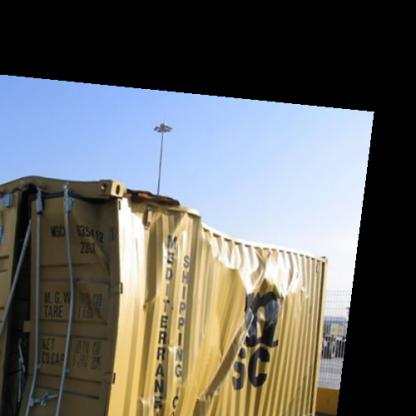Damage: (171, 218, 255, 405), (0, 184, 63, 412)
